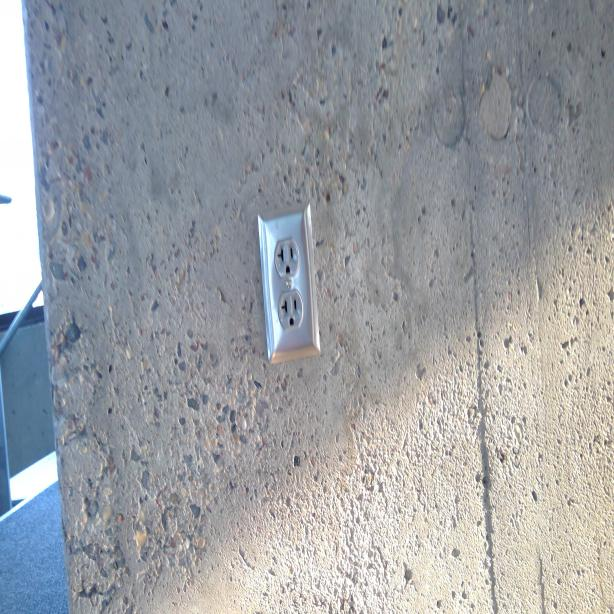typeb: (274, 238, 298, 278), (279, 294, 300, 328)
